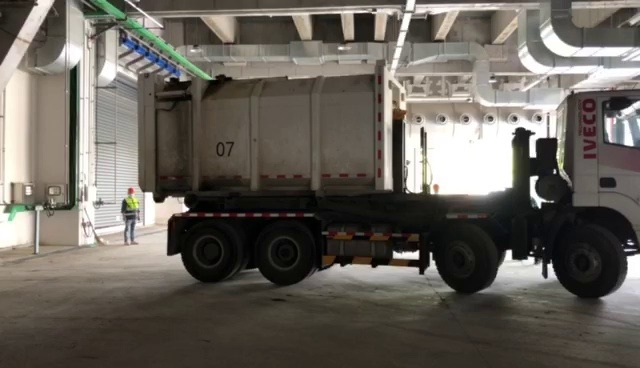truck: (126, 55, 640, 302)
